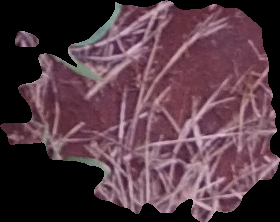soil: (1, 2, 277, 219)
